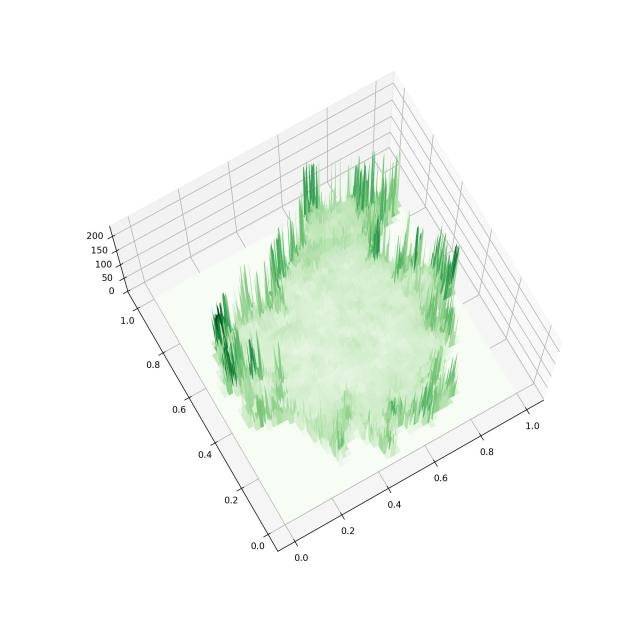fir: (73, 45, 588, 577)
